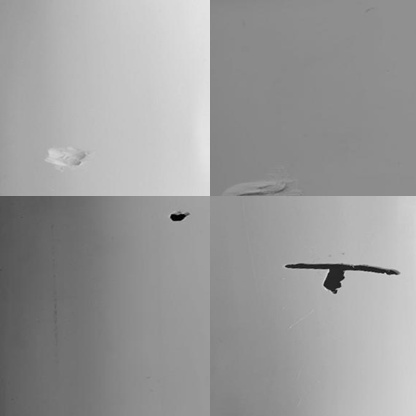fengxi: (282, 255, 401, 276)
kongdong: (321, 270, 346, 297), (167, 206, 191, 225)
sunshang: (219, 175, 301, 197), (46, 140, 86, 173)
